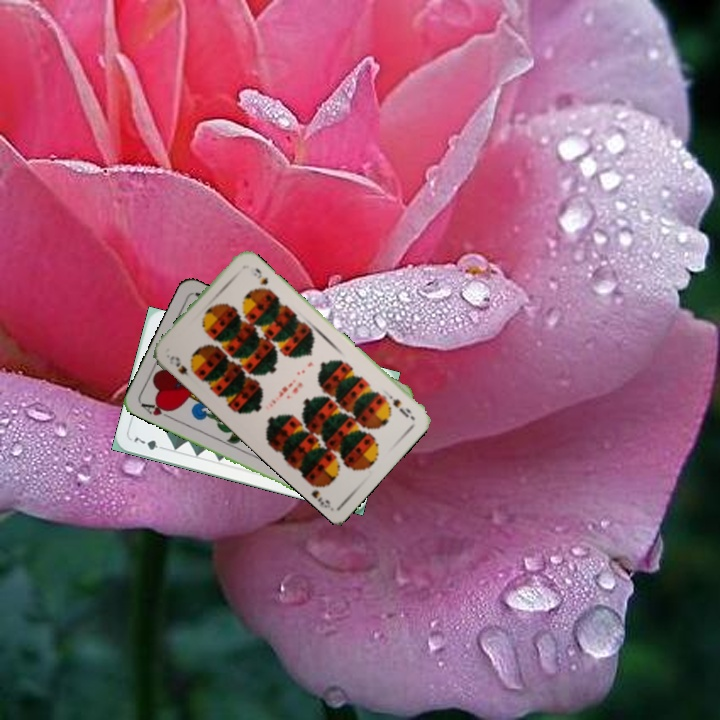G7: (130, 433, 169, 453)
HA: (137, 398, 176, 422)
S9: (384, 389, 416, 422), (165, 352, 192, 379)
